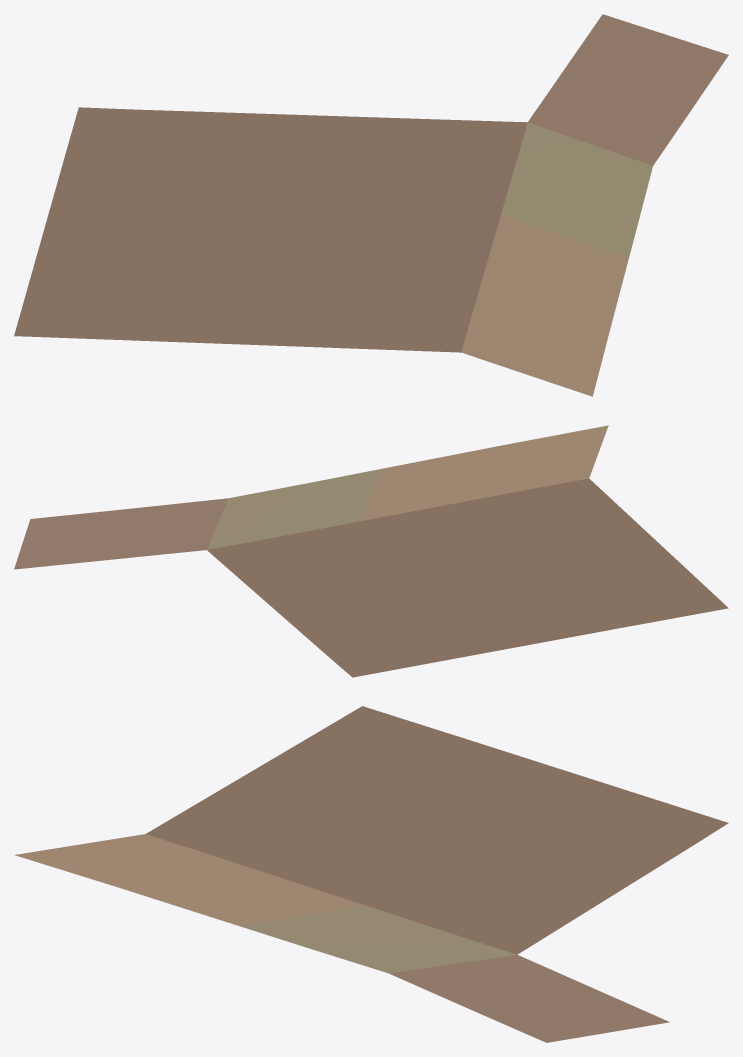
File: farm_3_7_soil.glb
The picture shows the model from 3 angles, top to bottom: view 1: azimuth 30°, elevation 25°; view 2: azimuth 150°, elevation 25°; view 3: azimuth 270°, elevation 25°; orthographic projection. The views are drawn at different scales.
Parts seen in each view (by area): view 1: geometry_0; view 2: geometry_0; view 3: geometry_0.
Part boxes in pixels (x1,y1,x2,y2): geometry_0: (14,14,728,396); geometry_0: (14,425,728,677); geometry_0: (14,706,728,1042).
Bounding box in the file's own units: 130 × 0.6068 × 116.
